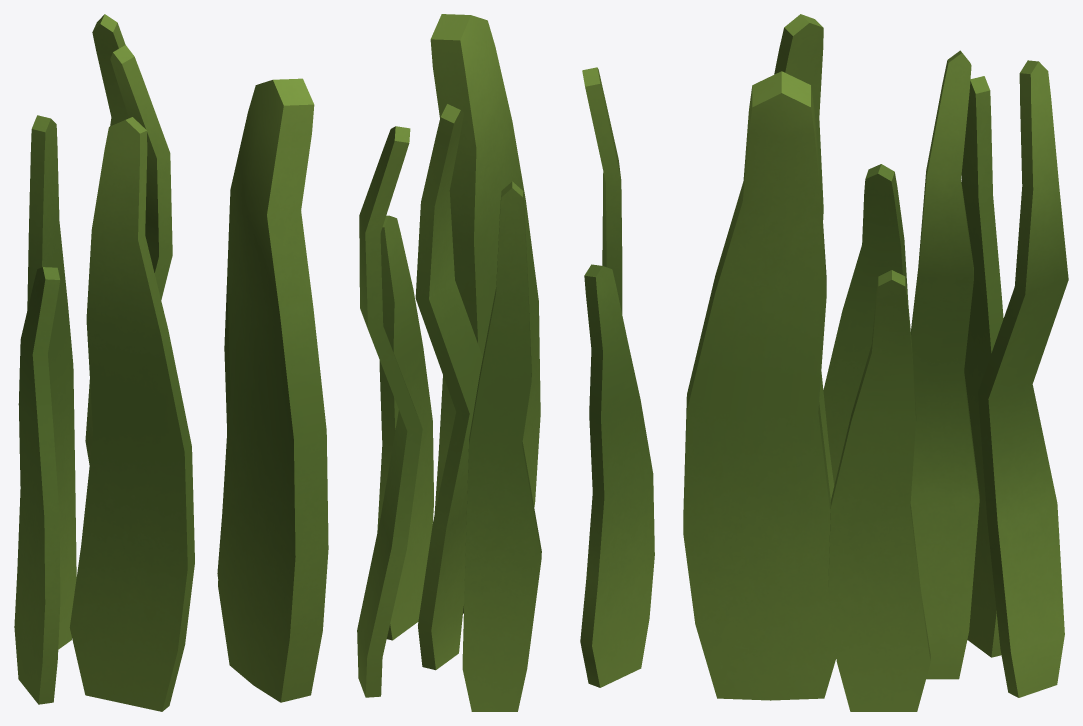
File: Grass Full.fbx
The picture shows the model from 3 angles, left to right: view 1: azimuth 30°, elevation 25°; view 2: azimuth 150°, elevation 25°; view 3: azimuth 270°, elevation 25°; orthographic projection. The views are drawn at different scales.
Visible parts, largest first — view 1: Grass_Small EXP; view 2: Grass_Small EXP; view 3: Grass_Small EXP.
Boxes of the visible parts, box(x1,y1,x2,y2) form: Grass_Small EXP: box(14, 14, 328, 711); Grass_Small EXP: box(357, 14, 654, 711); Grass_Small EXP: box(683, 14, 1068, 711).
Bounding box in the file's own units: 18.21 × 41.95 × 22.96.
1 material, 1 textured.
